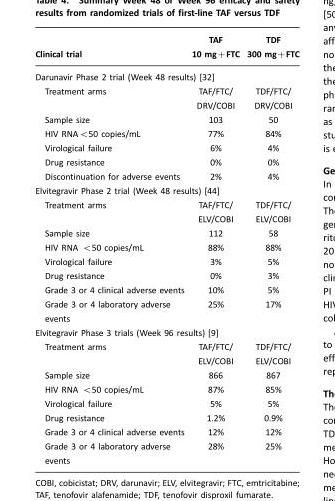table: (34, 35, 298, 464)
table column: (34, 35, 187, 464), (242, 35, 298, 464), (187, 35, 242, 464)
table column header: (34, 35, 298, 65)
table projected row header: (34, 65, 298, 83), (34, 183, 298, 197), (34, 325, 298, 339)
table row: (34, 35, 298, 65), (34, 83, 298, 112), (34, 296, 298, 325), (34, 197, 298, 225), (34, 339, 298, 367), (34, 438, 298, 464), (34, 65, 298, 83), (34, 125, 298, 141), (34, 168, 298, 183), (34, 239, 298, 254), (34, 381, 298, 396), (34, 154, 298, 168), (34, 183, 298, 197), (34, 225, 298, 239), (34, 254, 298, 268), (34, 268, 298, 282), (34, 282, 298, 296), (34, 325, 298, 339), (34, 367, 298, 381), (34, 396, 298, 410), (34, 410, 298, 424), (34, 424, 298, 438), (34, 112, 298, 125), (34, 141, 298, 154)
